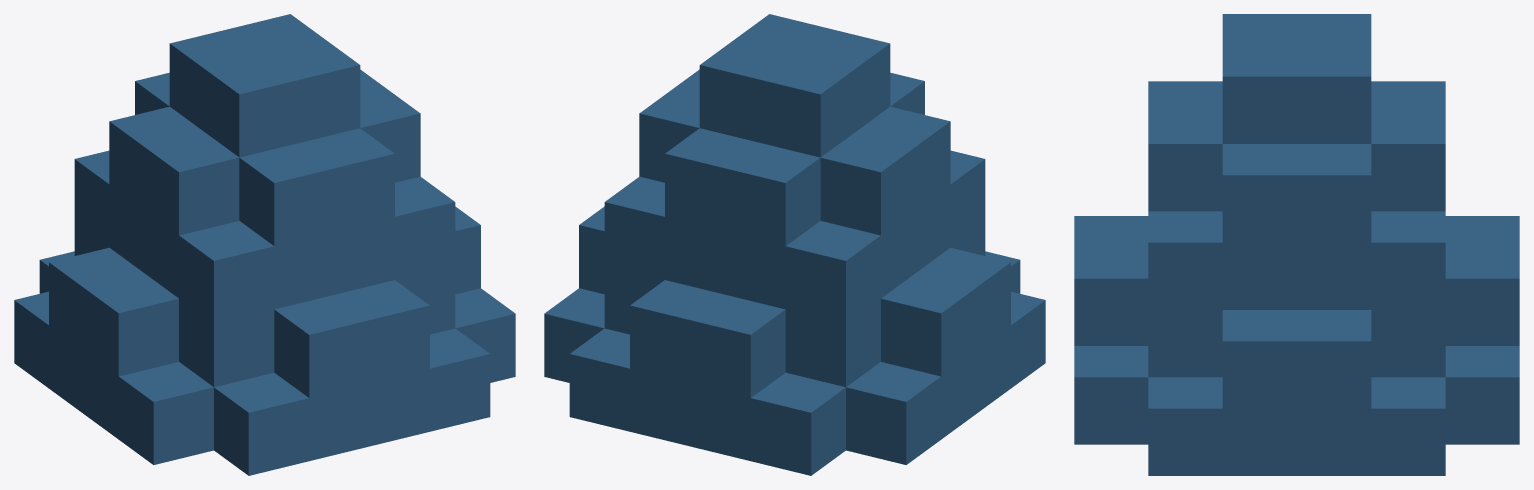
File: Slime1_F2.obj
3 renders of one model, left to right at view 1: azimuth 30°, elevation 25°; view 2: azimuth 150°, elevation 25°; view 3: azimuth 270°, elevation 25°, orthographic. The views are drawn at different scales.
Bounding box in the file's own units: 0.6 × 0.5 × 0.6.
Materials: 1 (1 with a texture image).
